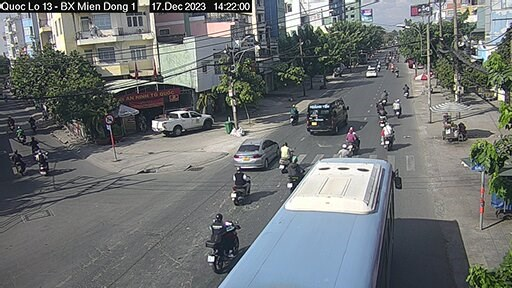bus: (276, 157, 398, 288)
car: (149, 107, 214, 138), (305, 94, 350, 137), (227, 137, 281, 170)
motorbike: (203, 216, 238, 265), (226, 163, 252, 203), (28, 147, 49, 176), (376, 123, 398, 150), (10, 147, 29, 174), (391, 93, 404, 117), (288, 102, 299, 123), (400, 83, 412, 100)
